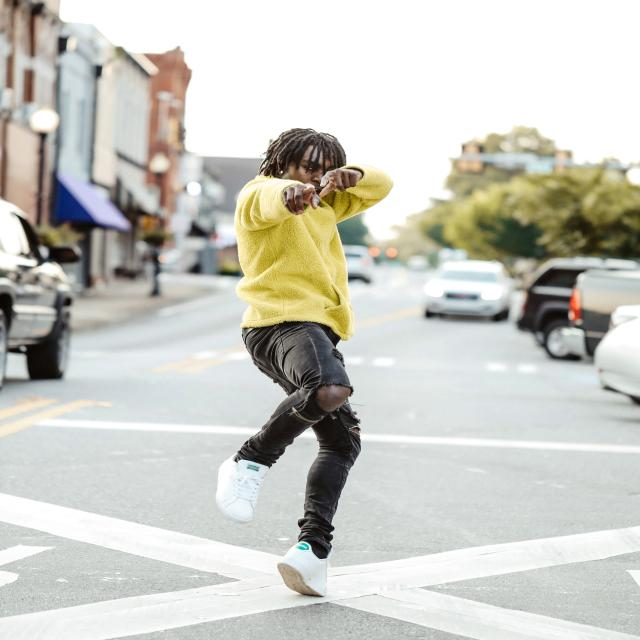adult: (213, 125, 395, 594)
